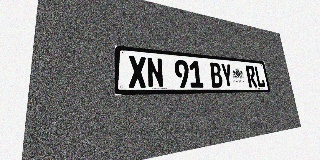1: (188, 60, 204, 88)
9: (174, 59, 190, 88)
B: (209, 62, 223, 88)
L: (254, 66, 266, 87)
N: (146, 57, 164, 88)
R: (245, 65, 258, 87)
X: (128, 55, 147, 88)
Y: (220, 63, 234, 88)
